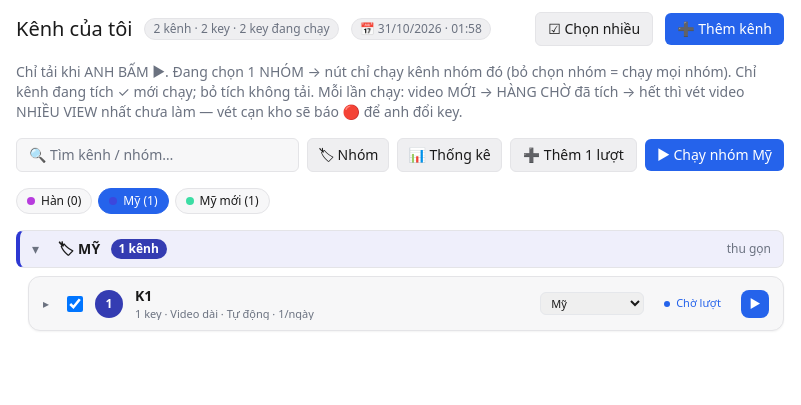
ĐỔI NHÓM HÀNG LOẠT — chọn nhiều kênh rồi đổi một lượt › tích kênh nhóm A rồi ĐỔI SANG xem nhóm B → cờ chọn bị dọn, không đổi oan
Expected: the button "➕ Thêm kênh" is shown, [665,13,784,45]
Expected: the dropdown is shown, [540,292,644,315]
Click the button "☑ Chọn nhiều" at (594, 29), box [535,12,653,46]
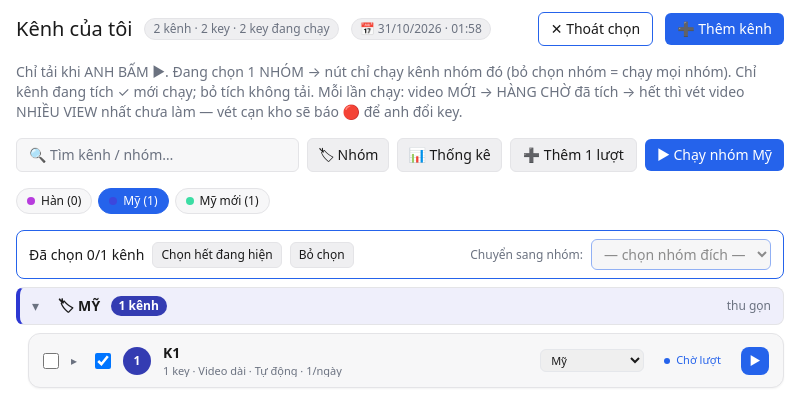
Result: the dropdown named "Chọn nhóm đích — hỏi xác nhận rồi đổi cho MỌI kênh đang tích" is shown at [591,239,771,270]
Click the checkbox named "Chọn kênh K1 để đổi nhóm" at (51, 361), box [43,353,59,369]
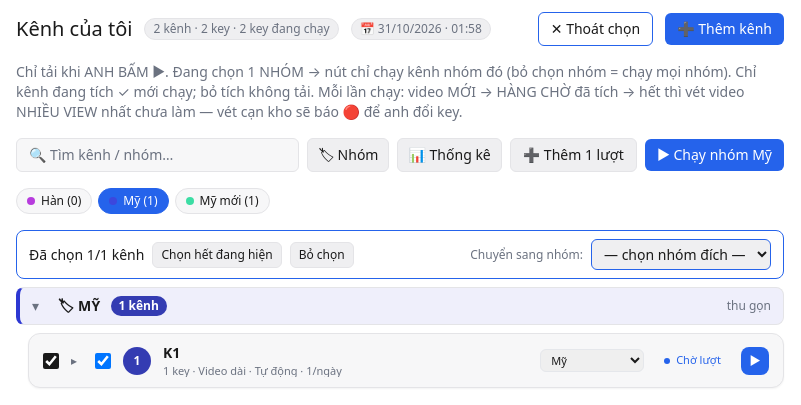
Result: the text "Đã chọn 1/1 kênh" is shown at [29,244,144,264]
Click the button titled "Chỉ hiện kênh nhóm \"Mỹ mới\"" at (222, 201), box [174,188,270,214]
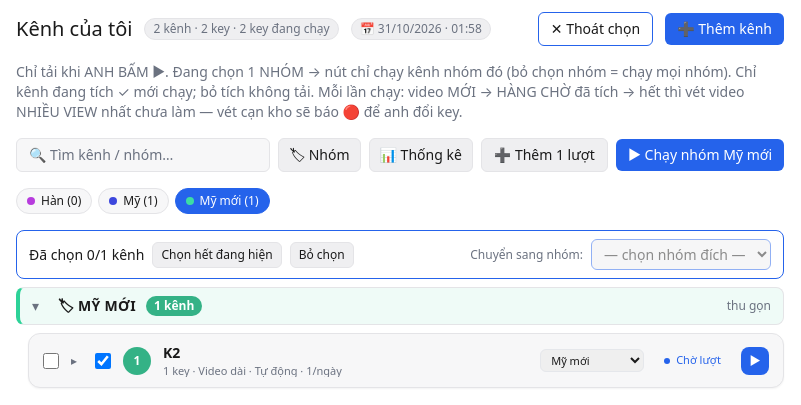
Result: the text "Đã chọn 0/1 kênh" is shown at [29,244,144,264]
Result: the dropdown named "Chọn nhóm đích — hỏi xác nhận rồi đổi cho MỌI kênh đang tích" is disabled at [591,239,771,270]
